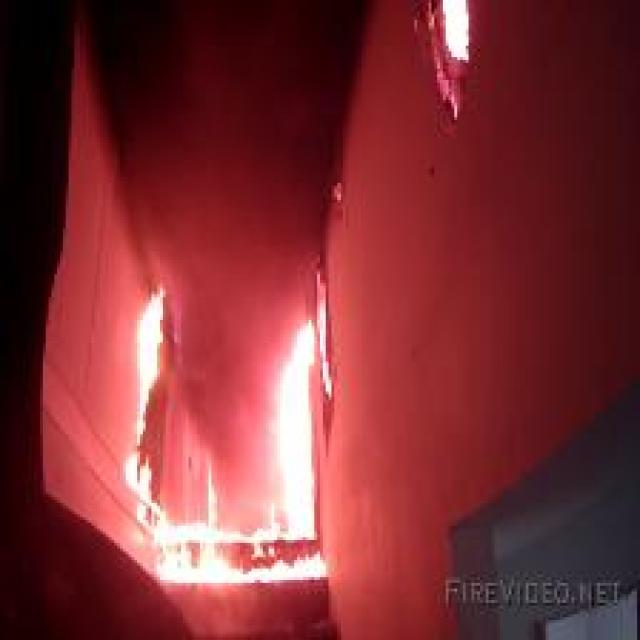fire: (126, 295, 343, 598), (417, 0, 483, 127)
